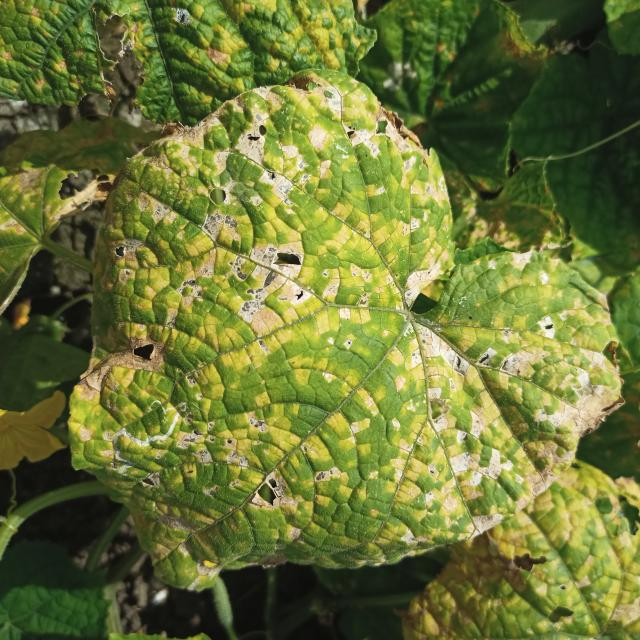disease_cucumber: (64, 98, 615, 594), (406, 480, 640, 640), (114, 397, 184, 476)
